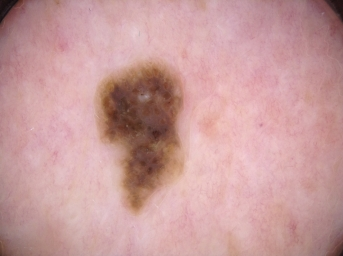seborrheic keratosis: (85, 51, 205, 219)
